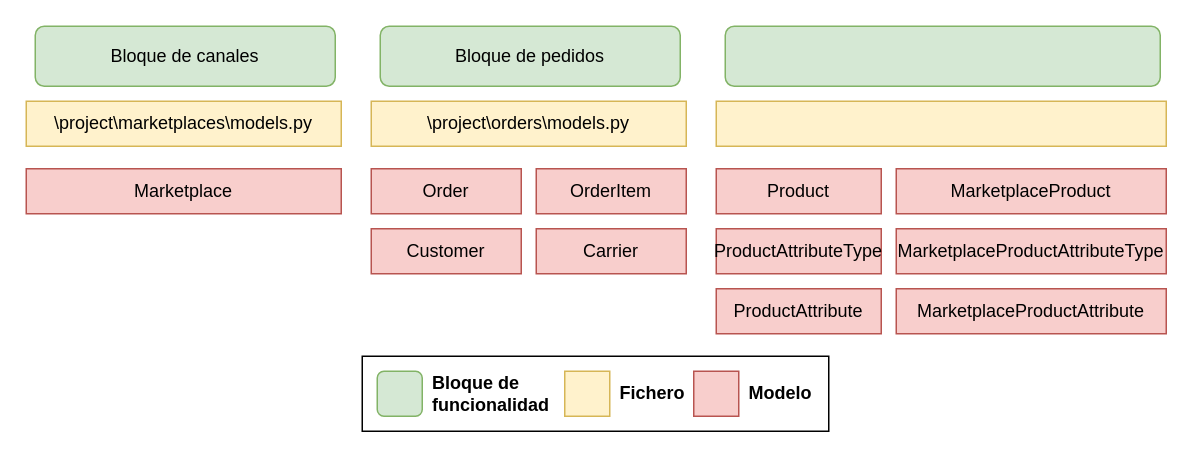
This 1193x458 diagram has some shape labels left out. Each missing label, with the box of its shape:
\project\products\models.py: (715, 100, 1166, 146)
Bloque de productos: (724, 25, 1160, 86)
